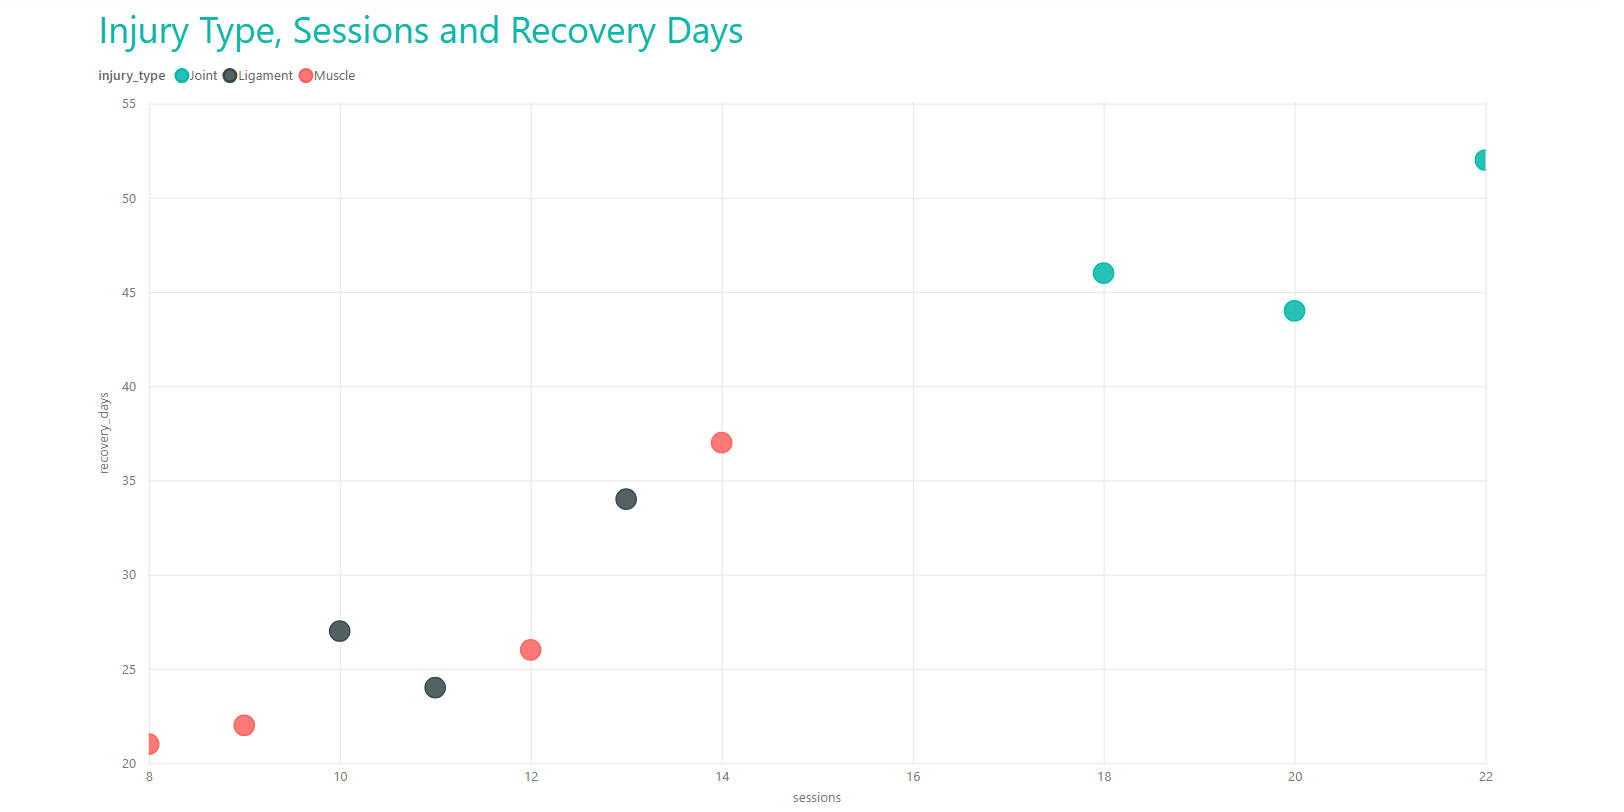

What the dashboard file says about the page in this screenshot:
{"tool":"powerbi","page":{"name":"Sessions Efficiency","canvas":[1280,720],"ordinal":3},"visuals":[{"type":"scatterChart","title":"Injury Type, Sessions and Recovery Days","fields":{"X":["clinical_data_cleaned csv.sessions"],"Series":["clinical_data_cleaned csv.injury_type"],"Y":["clinical_data_cleaned csv.recovery_days"]},"box":[76,44.6,1125.6,646.7],"z":0}]}

Visuals, with their boxes on the page's 1280x720 design canvas (x1, y1, x2, y2). These are canvas units, not pixel positions in the 1624x812 screenshot, which may show the page scaled, cropped or inside an application window:
"Injury Type, Sessions and Recovery Days" scatterChart: <region>76, 45, 1202, 691</region>
